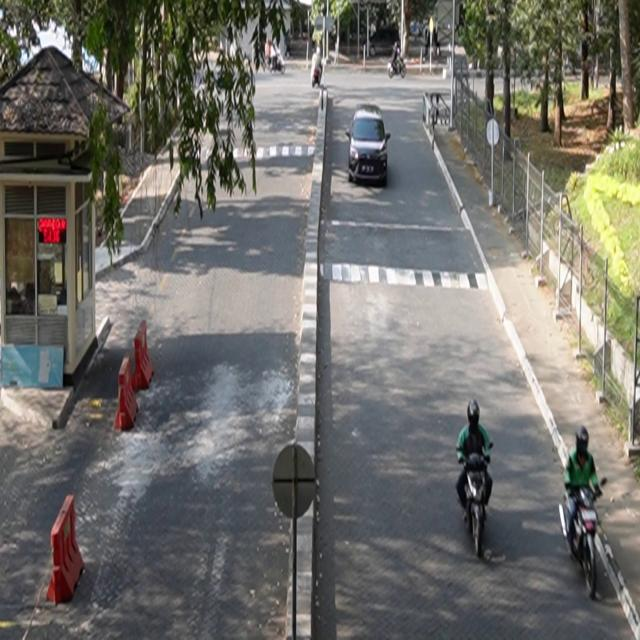car: (346, 104, 392, 188)
